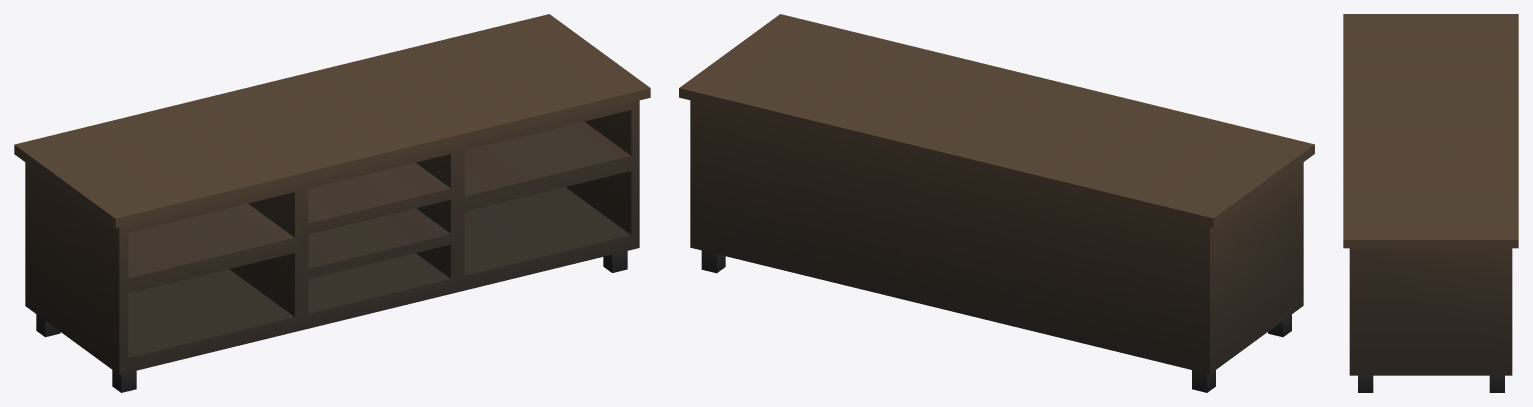
The model's file is SideboardCabinet_B_Open_Brown.fbx.
3 renders of one model, left to right at view 1: azimuth 30°, elevation 25°; view 2: azimuth 150°, elevation 25°; view 3: azimuth 270°, elevation 25°, orthographic. The views are drawn at different scales.
Visible parts, largest first — view 1: SideboardCabinet_B_Open_Brown; view 2: SideboardCabinet_B_Open_Brown; view 3: SideboardCabinet_B_Open_Brown.
Part boxes in pixels (x1=…): SideboardCabinet_B_Open_Brown: x1=14, y1=14, x2=650, y2=392; SideboardCabinet_B_Open_Brown: x1=679, y1=14, x2=1314, y2=392; SideboardCabinet_B_Open_Brown: x1=1343, y1=14, x2=1518, y2=392.
Bounding box in the file's own units: 244 × 80.14 × 80.
